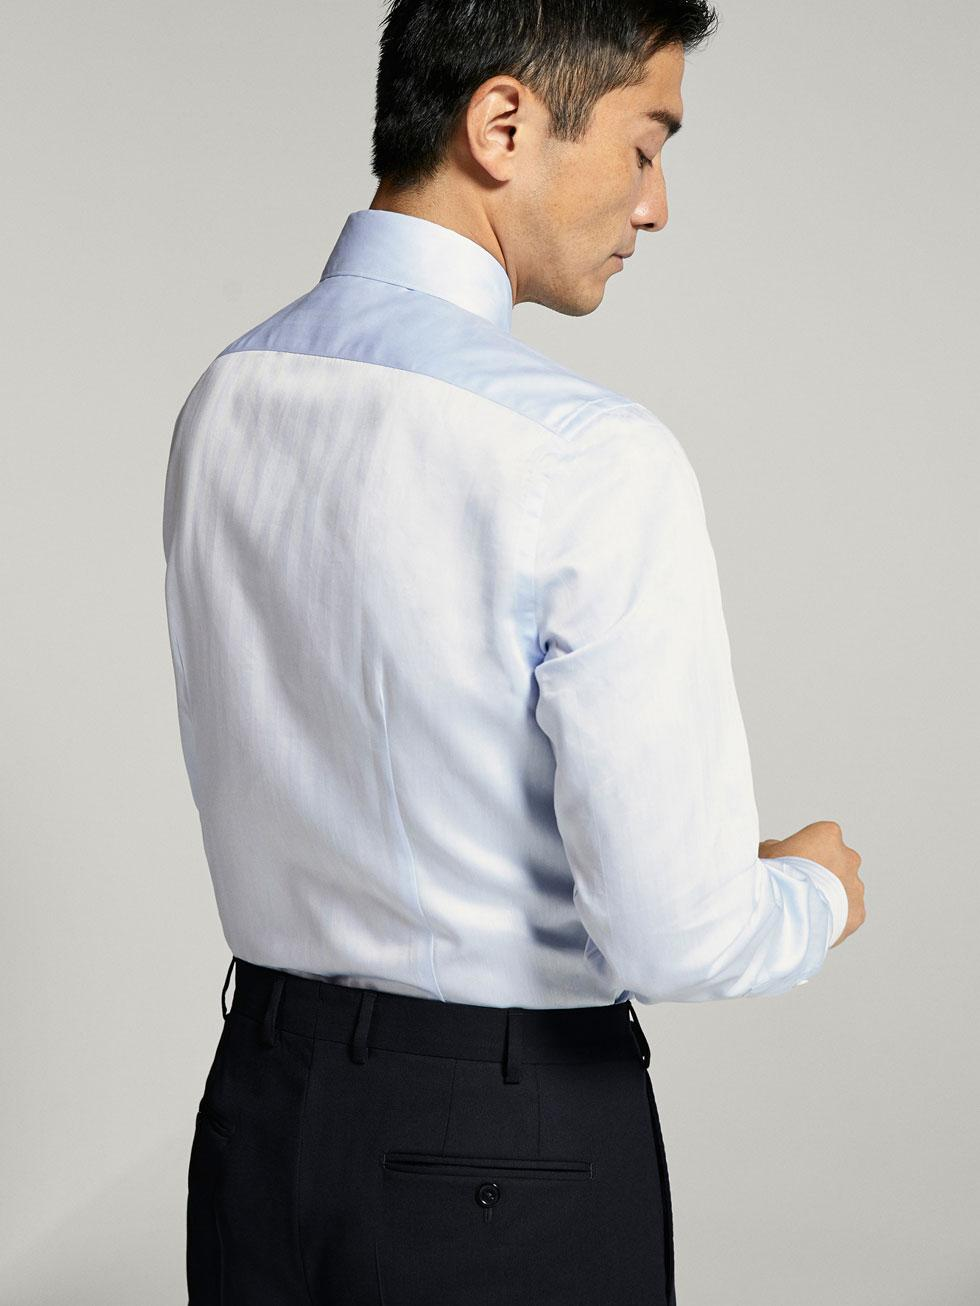teeshirt: (155, 199, 895, 1007)
